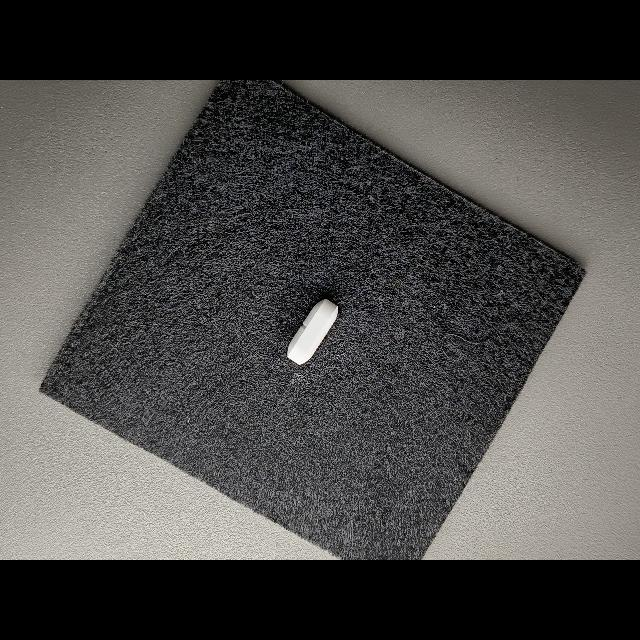Intact Pill: (287, 299, 338, 365)
